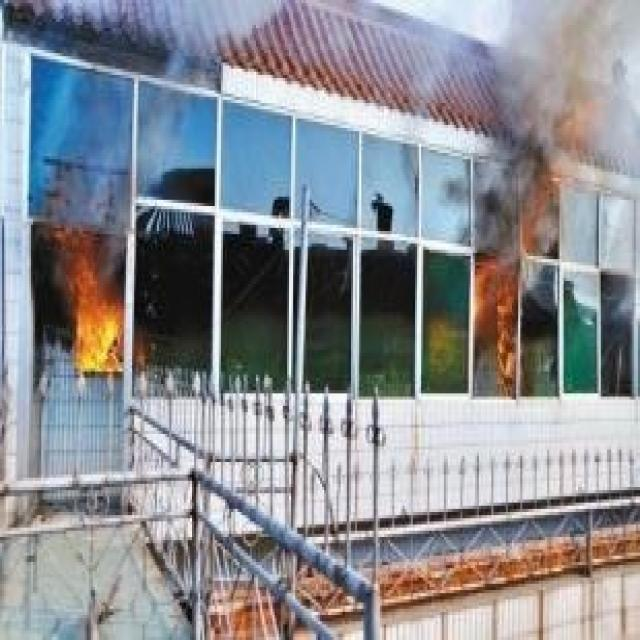Fire: (464, 153, 566, 387), (39, 209, 132, 381)
Smoke: (102, 0, 293, 278), (471, 3, 637, 254)
